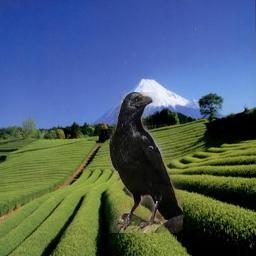Crow: (109, 92, 183, 233)
